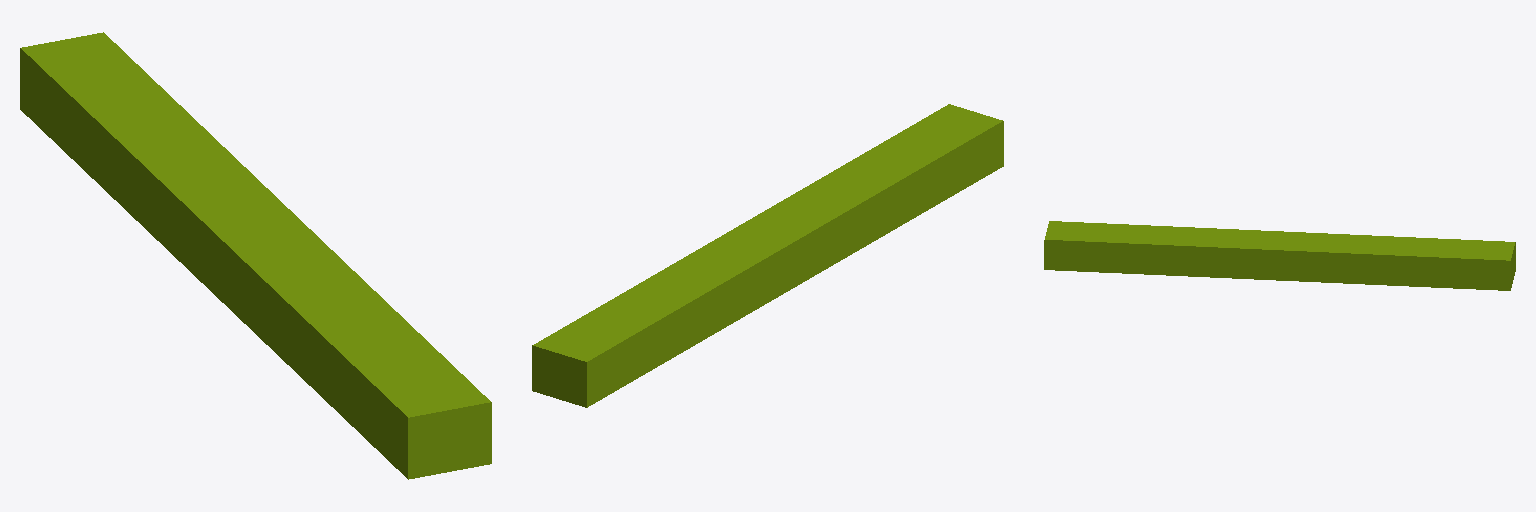
robot.urdf — Interference:
<?xml version="1.0"?>
<robot name="Interference">
  <link name="baseLink">
    <inertial>
      <origin xyz="0.0 0.0 0.0" rpy="0.0 0.0 0.0"/>
      <inertia ixx="0.0" ixy="0.0" ixz="0.0" iyy="0.0" iyz="0.0" izz="0.0"/>
      <mass value="0"/>
    </inertial>
    <visual>
      <origin xyz="0.0 0.0 0.0" rpy="0.0 0.0 1.4642822168750569"/>
      <geometry>
        <box size="0.13998911753055784 0.013317921035278934 0.01"/>
      </geometry>
      <material name="color">
        <color rgba="0.5094875209655543 0.6394934610956249 0.09073970860304936 1.0"/>
      </material>
    </visual>
  </link>
</robot>

--- What the picture shows (computed from the rendered views, not written in the file) ---
The picture shows the robot from 3 angles, left to right: view 1: azimuth 30°, elevation 25°; view 2: azimuth 150°, elevation 25°; view 3: azimuth 270°, elevation 25°; orthographic projection.
Robot: Interference — 1 links, 0 joints (none); root link baseLink; default pose: every joint at zero.
Visible links, largest first — view 1: baseLink; view 2: baseLink; view 3: baseLink.
Link boxes in pixels (x1,y1,x2,y2): baseLink: (20,32,491,479); baseLink: (532,104,1003,407); baseLink: (1044,221,1515,290).
Bounding box of the posed robot: 0.0281 × 0.1406 × 0.01 m (x, y, z).
Geometry: primitives only (box / cylinder / sphere), no mesh files.